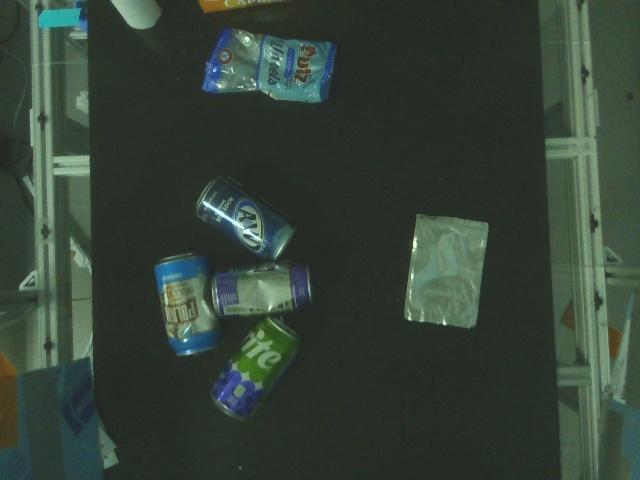cardboard: (110, 0, 162, 31), (198, 0, 292, 14)
metal: (214, 316, 302, 419), (195, 177, 297, 259), (153, 253, 217, 357), (213, 264, 314, 319)
plastic: (202, 25, 338, 104), (403, 213, 488, 329)
